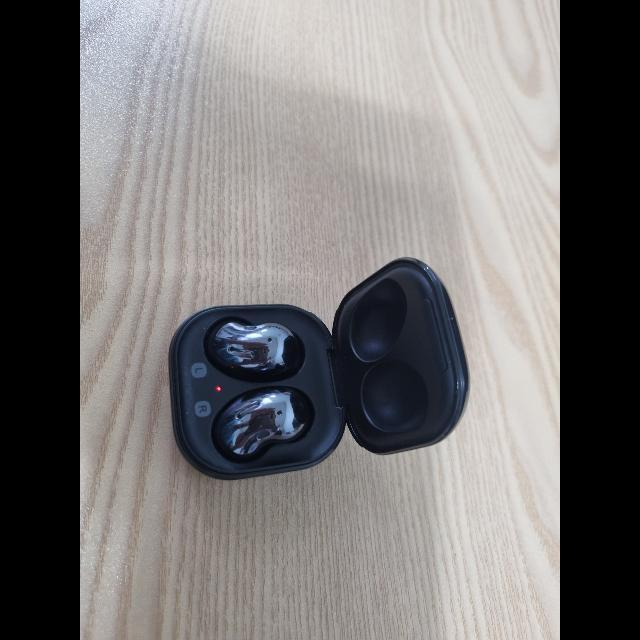buds_live: (168, 255, 472, 483)
